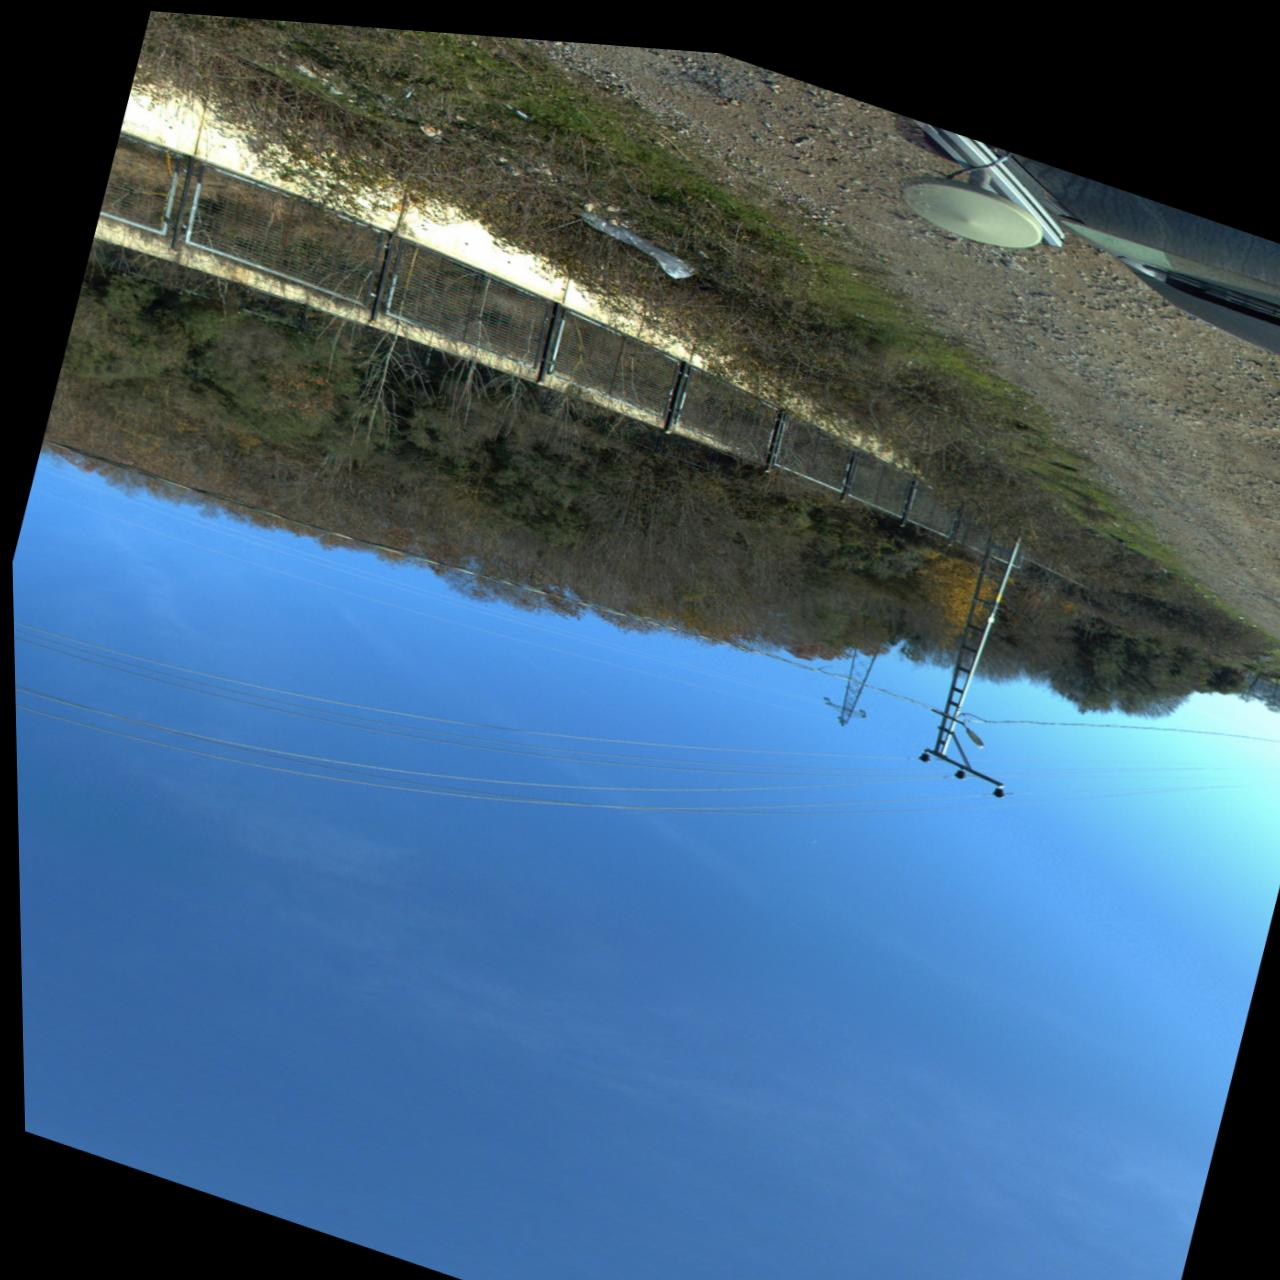Utility Pole Information Plate: (992, 576, 999, 585), (983, 599, 990, 606)
